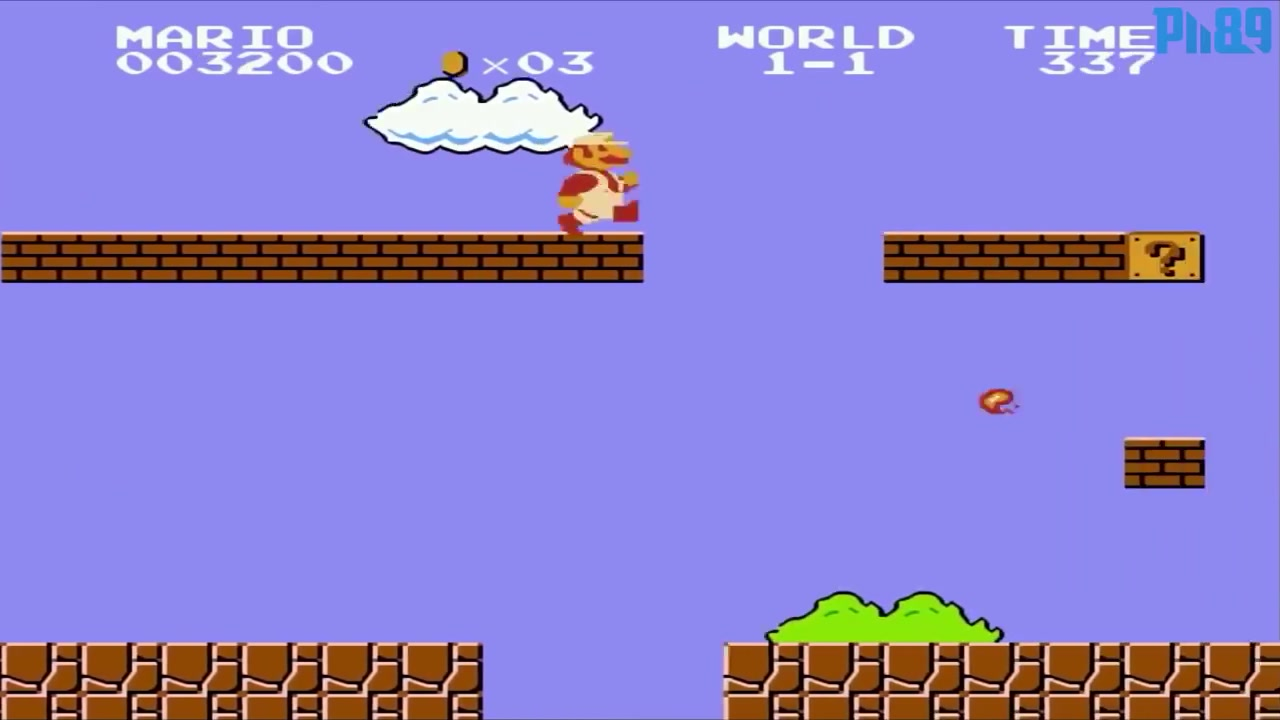mario: (556, 125, 637, 241)
